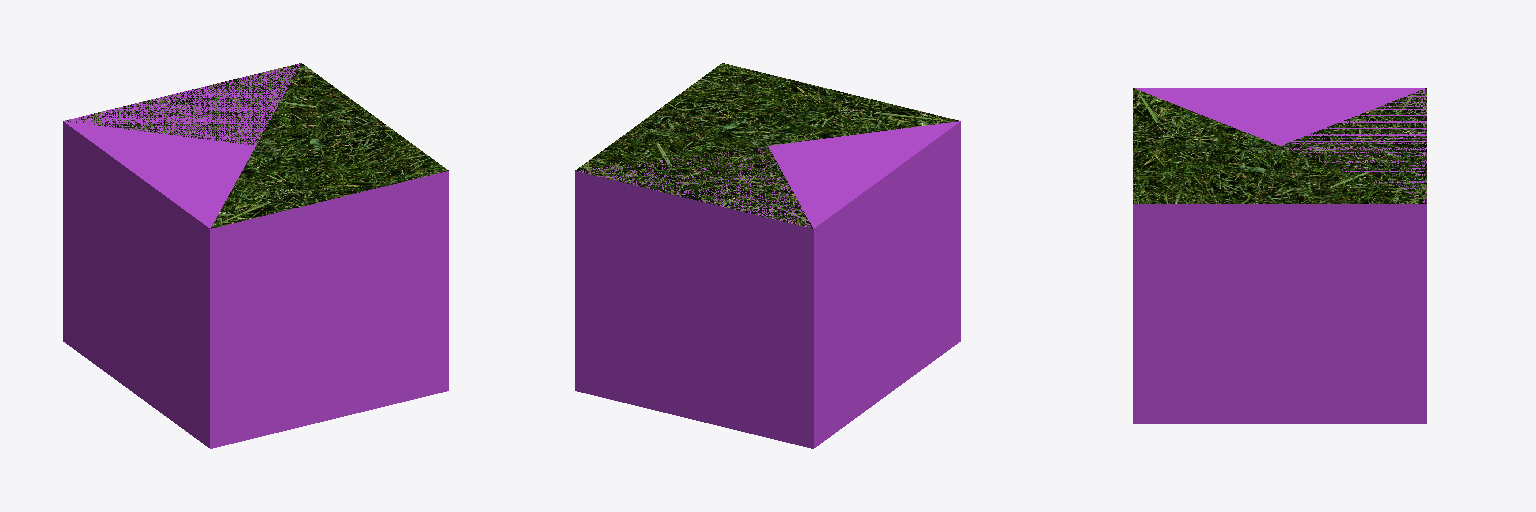
3 renders of one model, left to right at view 1: azimuth 30°, elevation 25°; view 2: azimuth 150°, elevation 25°; view 3: azimuth 270°, elevation 25°, orthographic.
Parts seen in each view (by area): view 1: Box01, Plane01; view 2: Box01, Plane01; view 3: Box01, Plane01.
Part boxes in pixels (x1,y1,x2,y2): Box01: (63,63,448,448); Plane01: (67,63,448,228); Box01: (575,121,960,448); Plane01: (575,63,958,228); Box01: (1133,88,1426,423); Plane01: (1133,88,1426,203).
Size of the model in its own units: 63.21 by 55.71 by 67.63.
2 materials, 1 textured.